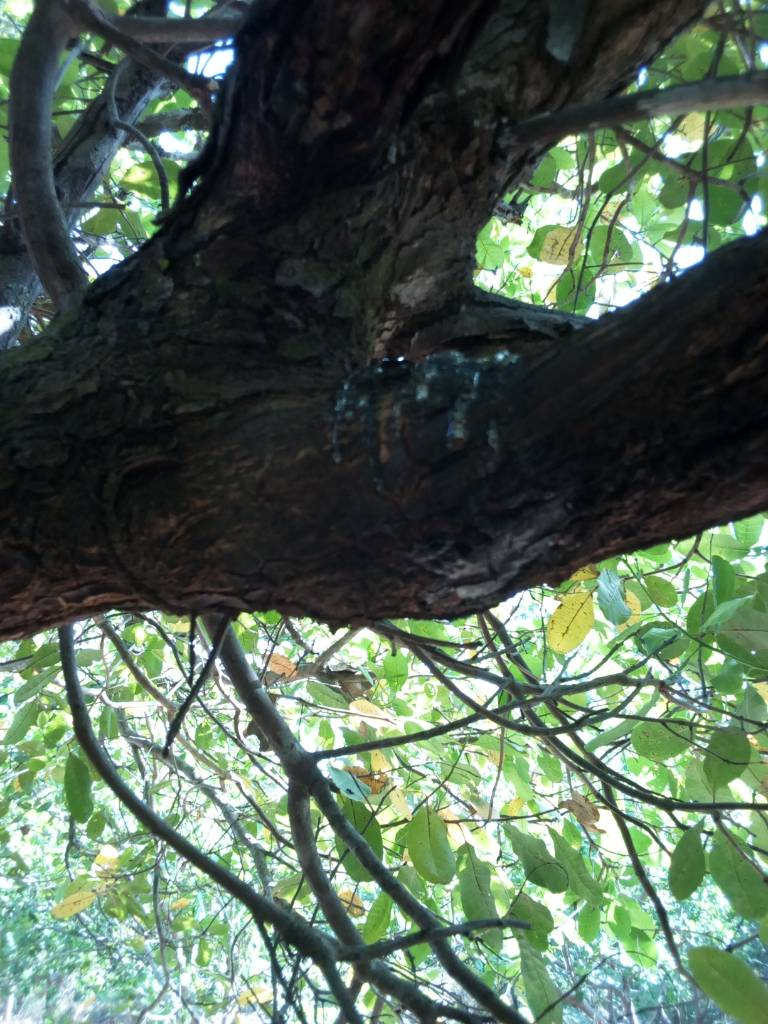Gommose: (322, 344, 616, 603)
